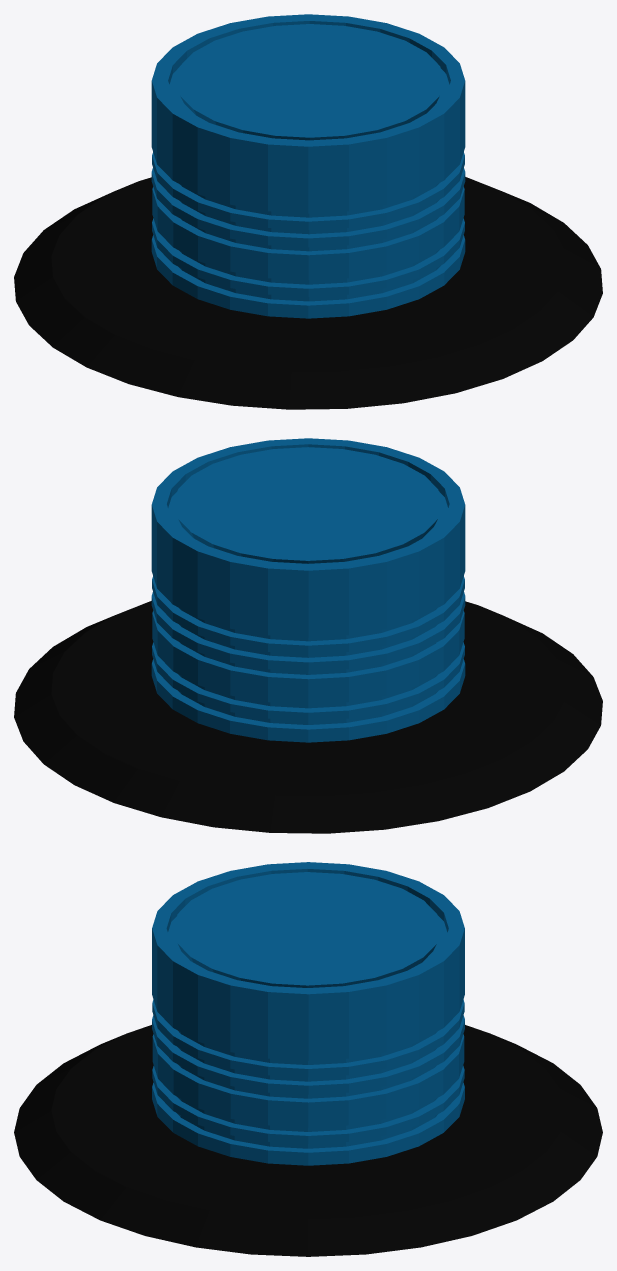
Rendered from props.fbx_reg7.fbx.
3 renders of one model, top to bottom at view 1: azimuth 30°, elevation 25°; view 2: azimuth 150°, elevation 25°; view 3: azimuth 270°, elevation 25°, orthographic.
Parts seen in each view (by area): view 1: Cylinder.016, Circle.032; view 2: Cylinder.016, Circle.032; view 3: Cylinder.016, Circle.032.
Boxes of the visible parts, x1=… form: Cylinder.016: x1=151, y1=14, x2=465, y2=318; Circle.032: x1=14, y1=177, x2=602, y2=409; Cylinder.016: x1=151, y1=438, x2=465, y2=742; Circle.032: x1=14, y1=601, x2=602, y2=833; Cylinder.016: x1=152, y1=862, x2=464, y2=1165; Circle.032: x1=14, y1=1025, x2=602, y2=1256.
Size of the model in its own units: 0.6411 by 0.2454 by 0.6411.
